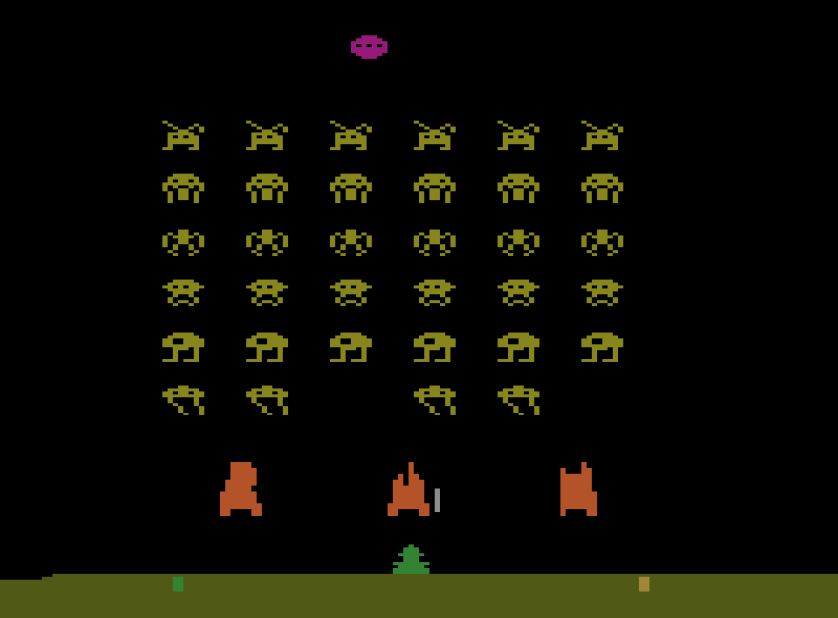bonus: (348, 34, 389, 61)
bullet: (434, 486, 441, 515)
invader1: (161, 117, 206, 152), (579, 119, 625, 152), (413, 118, 457, 152), (244, 118, 289, 151), (329, 119, 374, 152), (496, 119, 541, 152)
invader2: (329, 170, 374, 205), (244, 171, 290, 205), (495, 171, 541, 205), (580, 171, 625, 204), (413, 172, 457, 204), (161, 172, 206, 203)
invader3: (243, 227, 290, 257), (328, 227, 374, 257), (495, 227, 540, 257), (579, 228, 625, 257), (161, 228, 206, 257), (412, 228, 457, 257)
invader4: (579, 277, 625, 307), (161, 278, 206, 307), (244, 278, 289, 307), (329, 278, 373, 307), (412, 279, 457, 307), (496, 279, 541, 307)
invader5: (243, 330, 289, 364), (161, 329, 206, 363), (328, 330, 373, 364), (411, 330, 457, 363), (579, 331, 625, 364), (496, 330, 541, 363)
invader6: (245, 383, 290, 417), (413, 383, 458, 417), (161, 384, 206, 416), (497, 384, 541, 416)
player: (391, 542, 431, 575)
